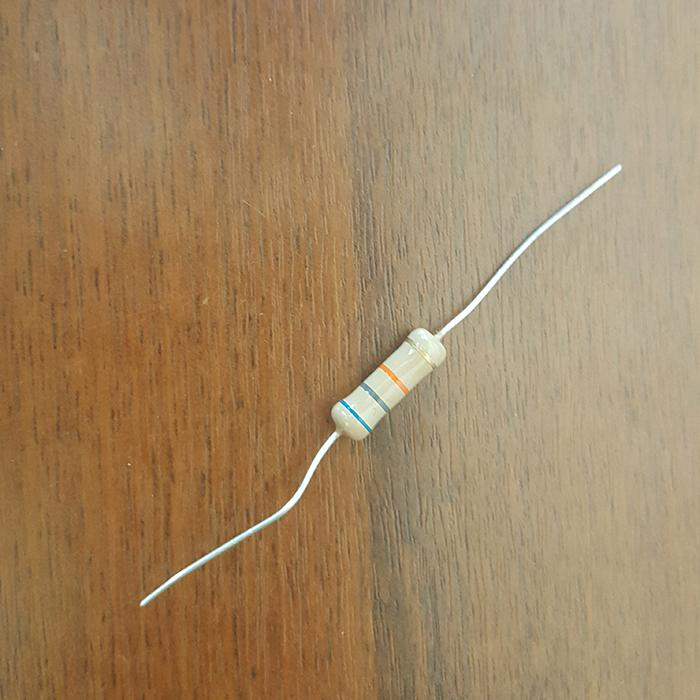resistor: (330, 327, 445, 440)
